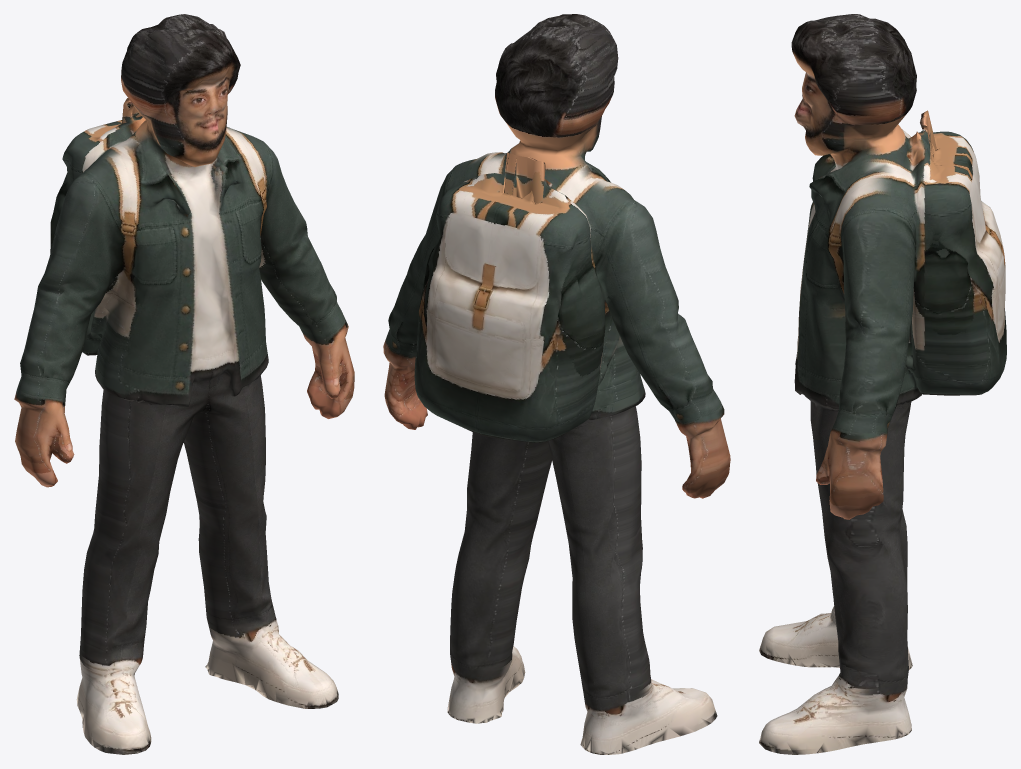
The model's file is anshul-colour-draft-v1.glb.
The picture shows the model from 3 angles, left to right: view 1: azimuth 30°, elevation 25°; view 2: azimuth 150°, elevation 25°; view 3: azimuth 270°, elevation 25°; orthographic projection. The views are drawn at different scales.
Parts seen in each view (by area): view 1: AnshulLikenessStaticDraft; view 2: AnshulLikenessStaticDraft; view 3: AnshulLikenessStaticDraft.
Boxes of the visible parts, x1,y1,x2,y2 form: AnshulLikenessStaticDraft: (14, 14, 354, 754); AnshulLikenessStaticDraft: (383, 14, 730, 754); AnshulLikenessStaticDraft: (759, 14, 1006, 754).
Size of the model in its own units: 0.613 by 1.2 by 0.401.
Materials: 1 (1 with a texture image).
